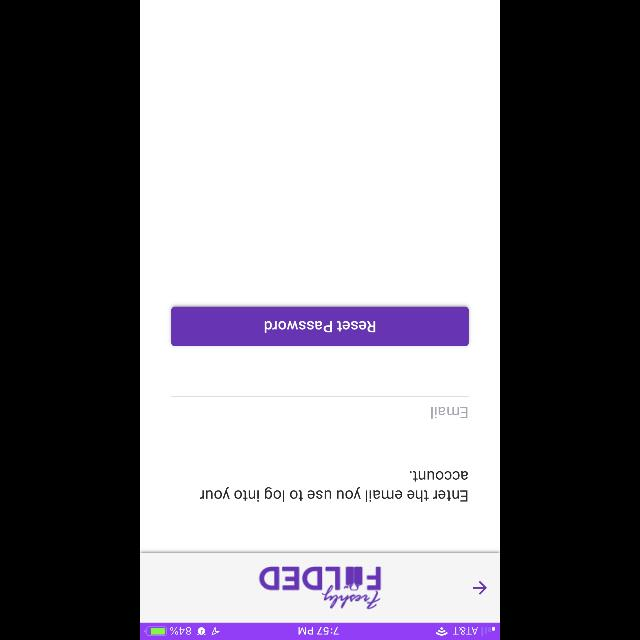icon: (473, 580, 487, 594)
image: (259, 566, 381, 610)
input: (172, 396, 468, 418)
text: (200, 472, 468, 502), (431, 407, 467, 419)
textbutton: (172, 306, 468, 346)
uppertaskbar: (140, 622, 500, 640)
